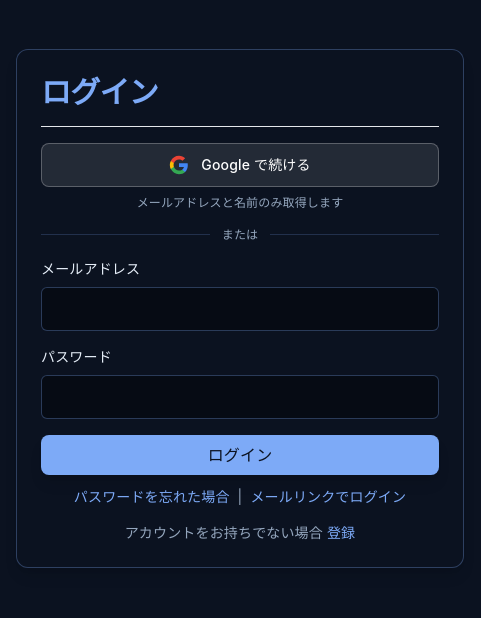
AuthPage › 未入力でログインするとアラートを表示してスクロールする
The width and height of the screenshot is (481, 618).
Click the button "ログイン" at (240, 454), box [41,434,439,474]
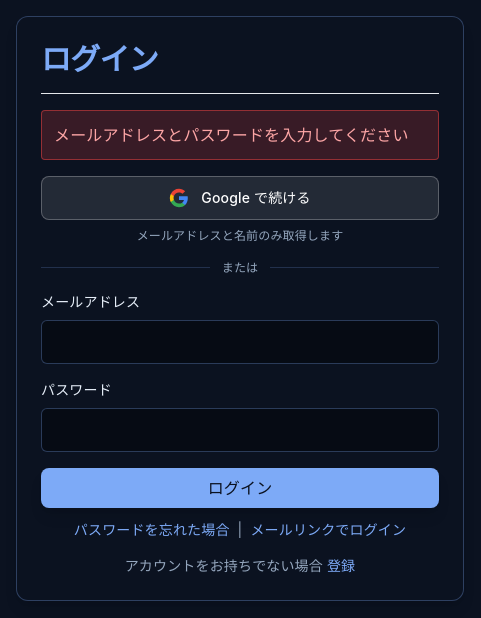
Expected: the message reads "メールアドレスとパスワードを入力してください", [54,124,409,144]
